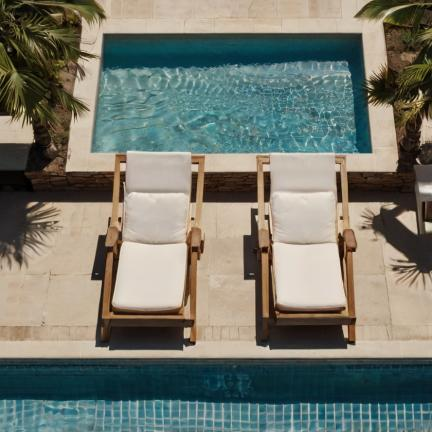empty chair: (101, 151, 205, 343), (256, 153, 357, 342)
